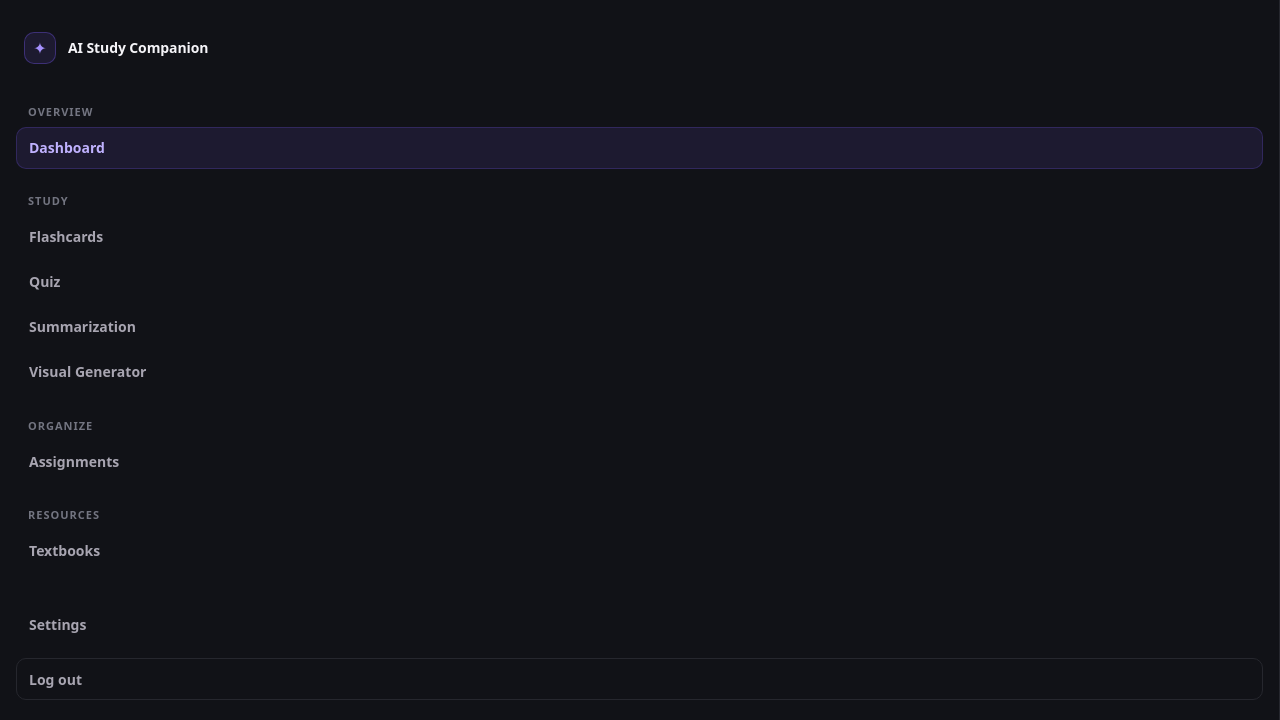
Test: Sidebar logout › shows an error and remains on the current page when logout fails
Click the button "Log out" at {"x": 56, "y": 679}, box [16,658,1263,700]
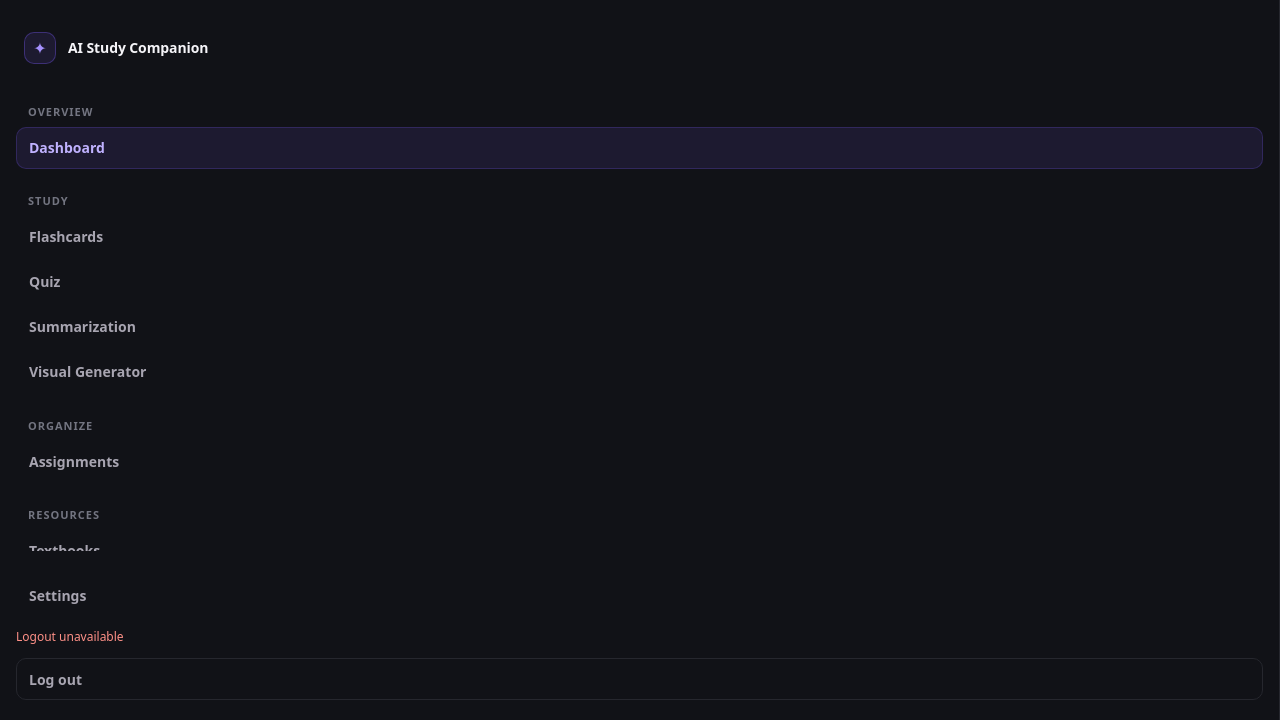
Expected: the text "Logout unavailable" is shown 2 times
